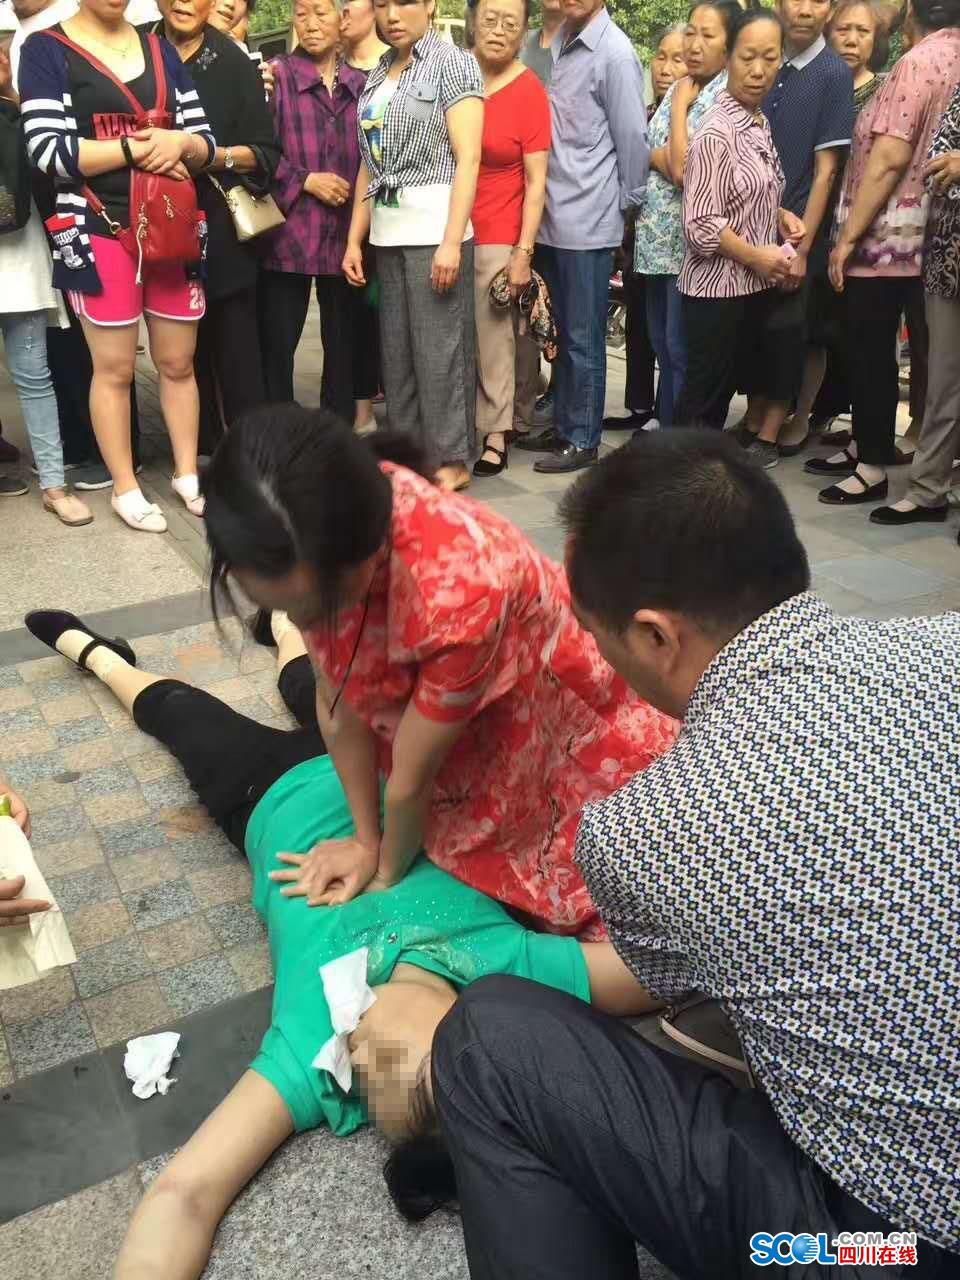10+: (9, 12, 958, 1179)
down: (1, 584, 722, 1280)
